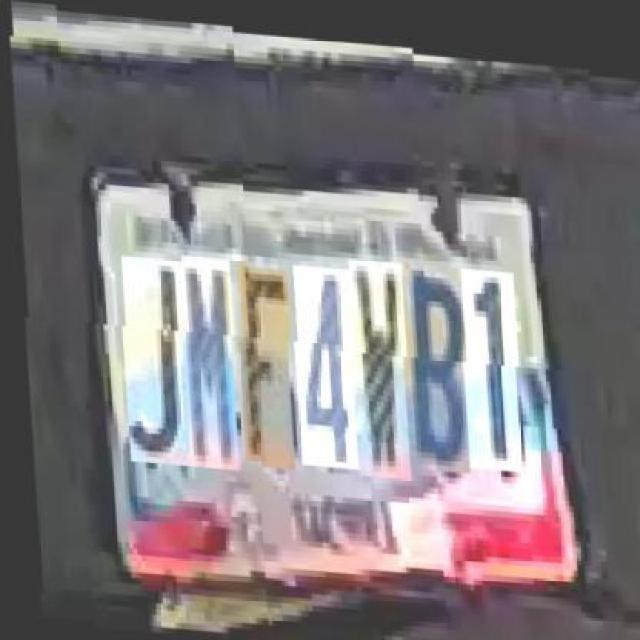1: (453, 248, 516, 450)
4: (286, 254, 352, 457)
b: (393, 243, 464, 454)
f: (229, 256, 289, 459)
j: (114, 253, 184, 464)
m: (174, 251, 234, 467)
w: (341, 245, 405, 467)
